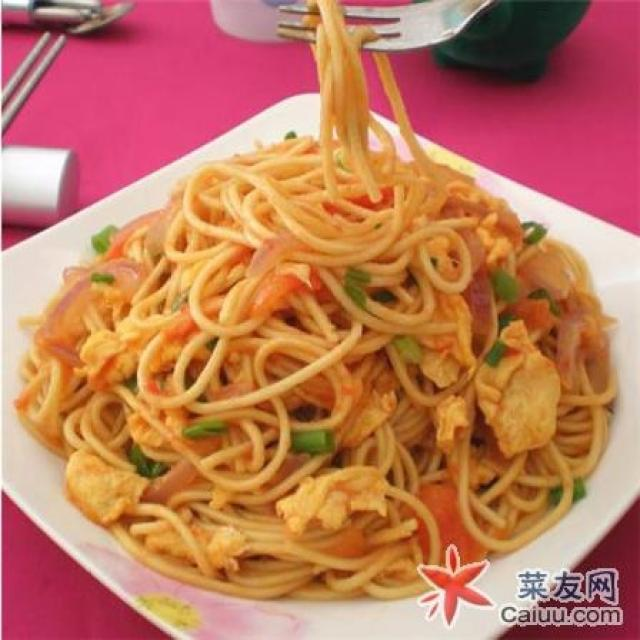面条主食: (17, 39, 623, 614)
